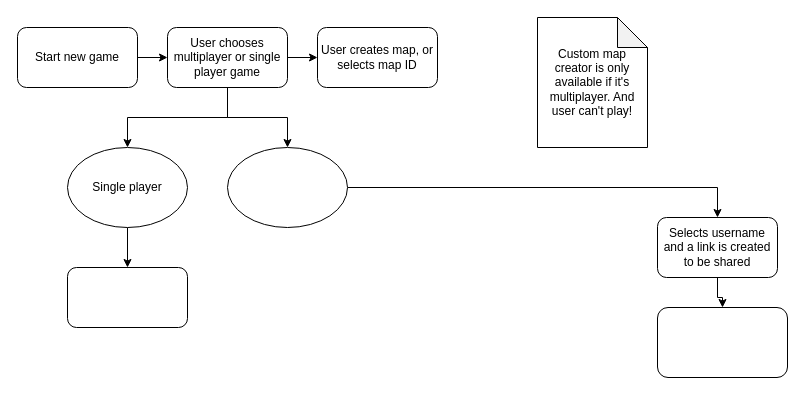
The diagram is 805 pixels wide and 395 high, and some of its shapes have lost their labels. Here are the shapes that lost their labels. From the top down, the box of each, then its label:
(226, 146, 348, 228): Multiplayer
(66, 266, 188, 328): Start game instance
(656, 306, 788, 378): When all the users, join, user who create may start game instance
